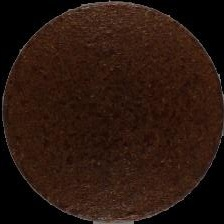68151-1992: (0, 0, 224, 224)
